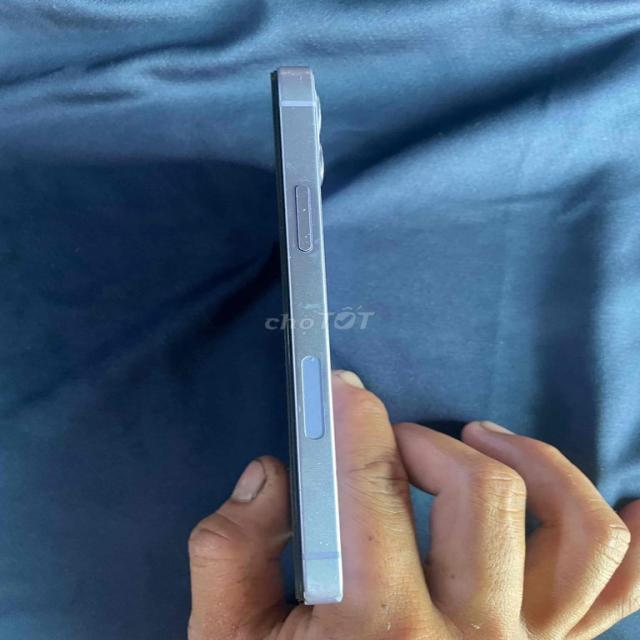gen_12_13: (252, 57, 405, 610)
